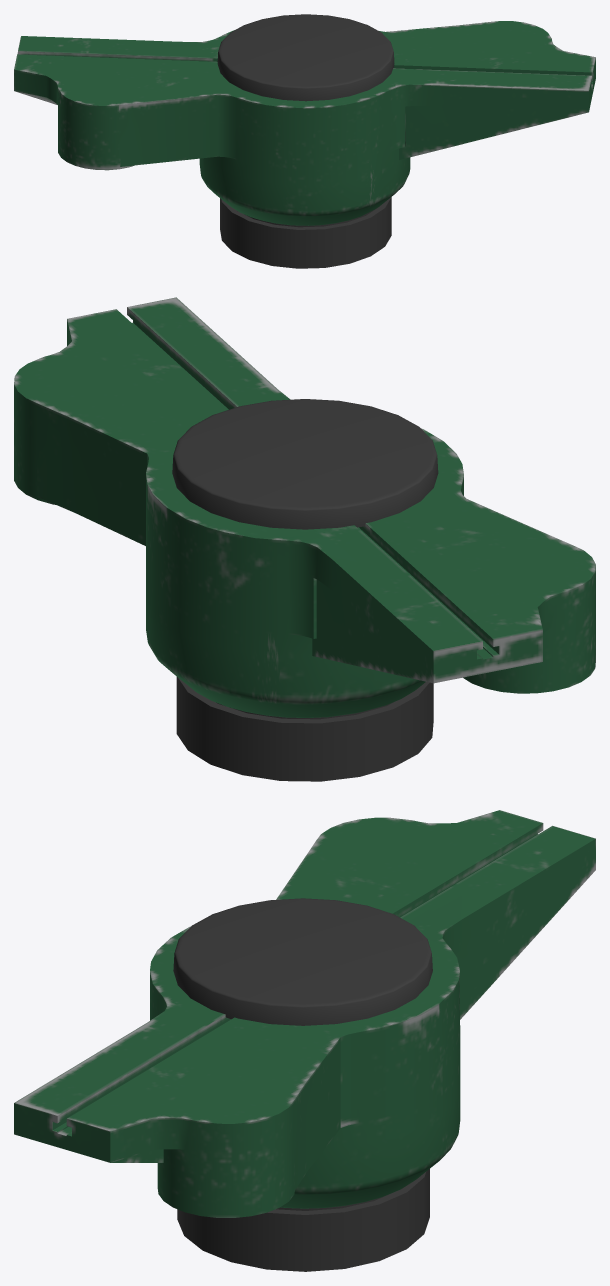
Rendered from UTM_lower_base.fbx.
3 views of the same model, one above another, from view 1: azimuth 30°, elevation 25°; view 2: azimuth 150°, elevation 25°; view 3: azimuth 270°, elevation 25° (orthographic). The views are drawn at different scales.
Visible parts, largest first — view 1: down_part_low.001, ring_down_low.001; view 2: down_part_low.001, ring_down_low.001; view 3: down_part_low.001, ring_down_low.001.
Boxes of the visible parts, <box> form: down_part_low.001: <box>14,14,595,225</box>; ring_down_low.001: <box>220,197,391,268</box>; down_part_low.001: <box>14,297,595,717</box>; ring_down_low.001: <box>176,677,433,781</box>; down_part_low.001: <box>14,810,595,1217</box>; ring_down_low.001: <box>177,1169,429,1271</box>.
Size of the model in its own units: 85.36 by 33.09 by 65.31.
